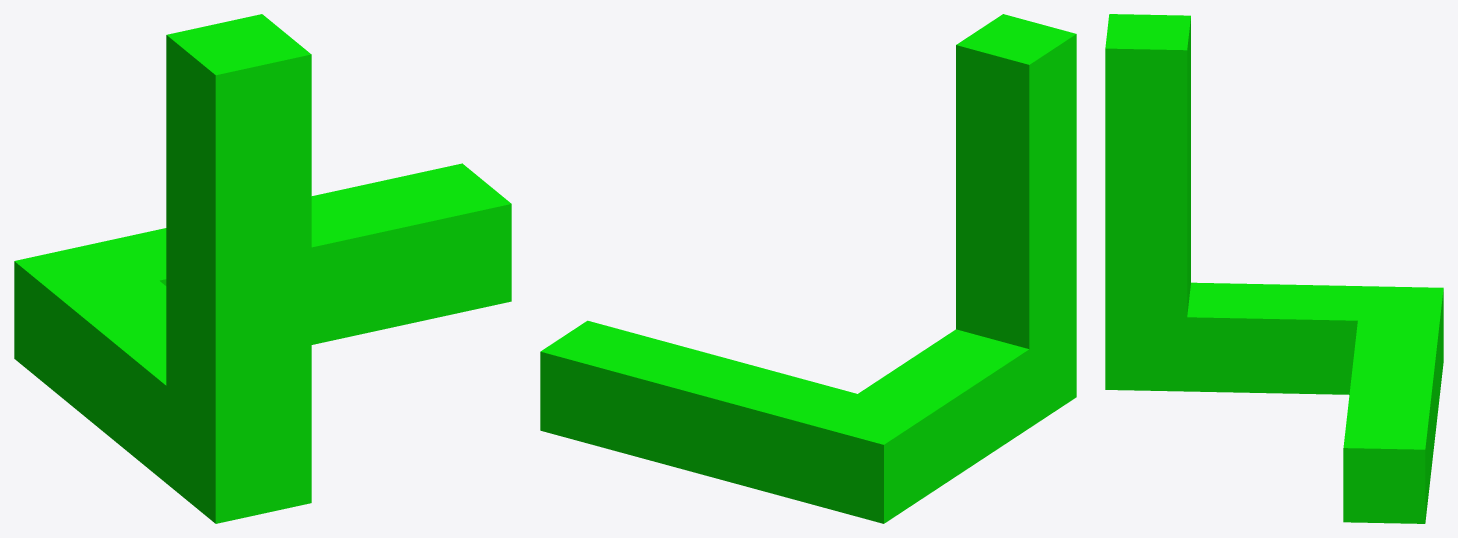
Rendered from Twistycool_robot.dae.
3 views of the same model, side by side, from view 1: azimuth 30°, elevation 25°; view 2: azimuth 150°, elevation 25°; view 3: azimuth 270°, elevation 25° (orthographic). The views are drawn at different scales.
Visible parts, largest first — view 1: instance_0; view 2: instance_0; view 3: instance_0.
Boxes of the visible parts, x1,y1,x2,y2 form: instance_0: (14, 14, 511, 523); instance_0: (540, 14, 1076, 523); instance_0: (1105, 14, 1443, 523).
Bounding box in the file's own units: 57.23 × 48.51 × 54.
